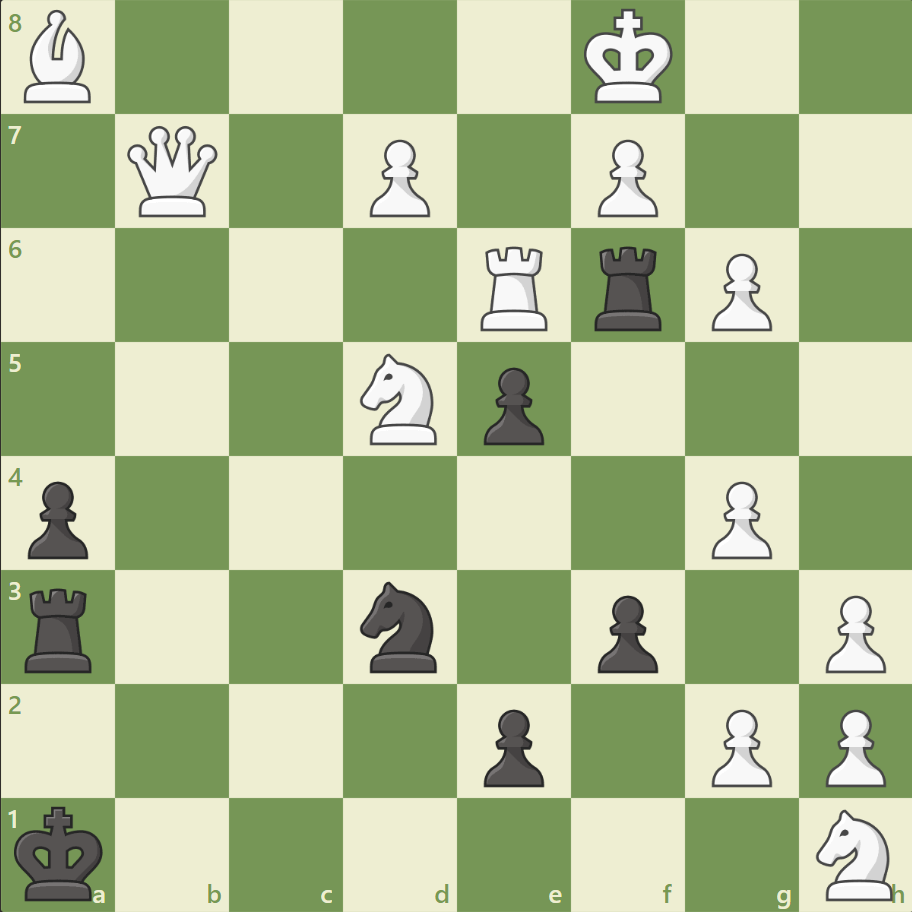B: (17, 6, 101, 109)
K: (579, 4, 679, 112)
N: (351, 348, 449, 450), (806, 802, 903, 904)
P: (701, 246, 776, 337), (701, 473, 776, 564), (701, 700, 776, 791), (361, 132, 435, 223), (588, 132, 662, 223), (815, 586, 889, 677), (815, 700, 889, 791)
Q: (124, 122, 223, 222)
R: (473, 239, 556, 336)
k: (11, 798, 111, 906)
n: (351, 575, 449, 677)
p: (474, 359, 549, 450), (20, 473, 95, 564), (474, 700, 549, 791), (588, 586, 662, 677)
r: (587, 239, 670, 336), (19, 579, 102, 676)
